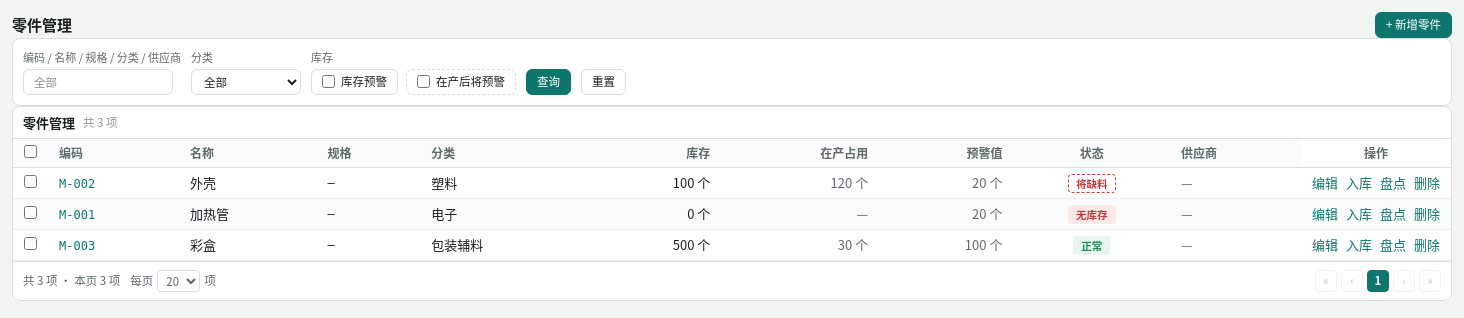
Test case: filters by projected alerts without changing the current-alert filter
Expected: the button "M-002" is shown, top-left (59, 175), bottom-right (95, 193)
Note: 「在产后将预警」只选出投影两档：M-002（将缺料）
Click the checkbox labelled "在产后将预警".
click(424, 82)  # box top-left (417, 75), bottom-right (430, 88)
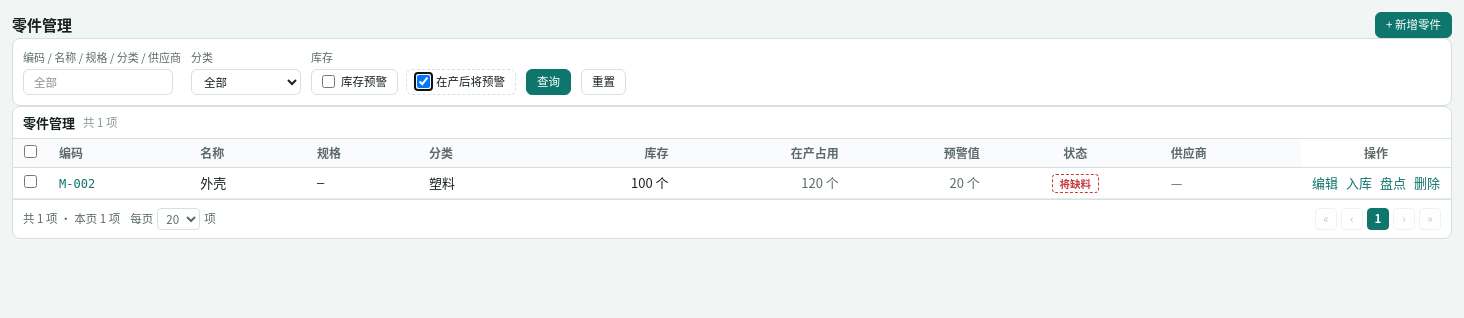
Expected: the button "M-002" is shown, top-left (59, 175), bottom-right (95, 193)
Result: the button "M-001" is gone
Result: the button "M-003" is gone
Note: 再勾上「库存预警」→ 并集：当前无货的 M-001 也回来
Click the checkbox labelled "库存预警".
click(328, 82)  # box top-left (322, 75), bottom-right (335, 88)
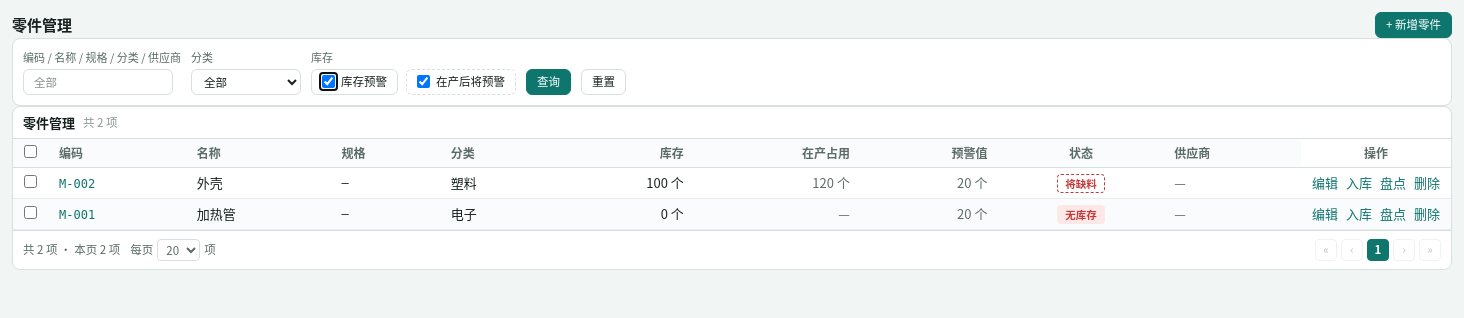
Expected: the button "M-002" is shown, top-left (59, 175), bottom-right (95, 193)
Result: the button "M-001" is shown at top-left (59, 206), bottom-right (95, 224)
Note:  重置后回到全部
Click the button "重置".
click(604, 82)  # box top-left (581, 68), bottom-right (626, 94)
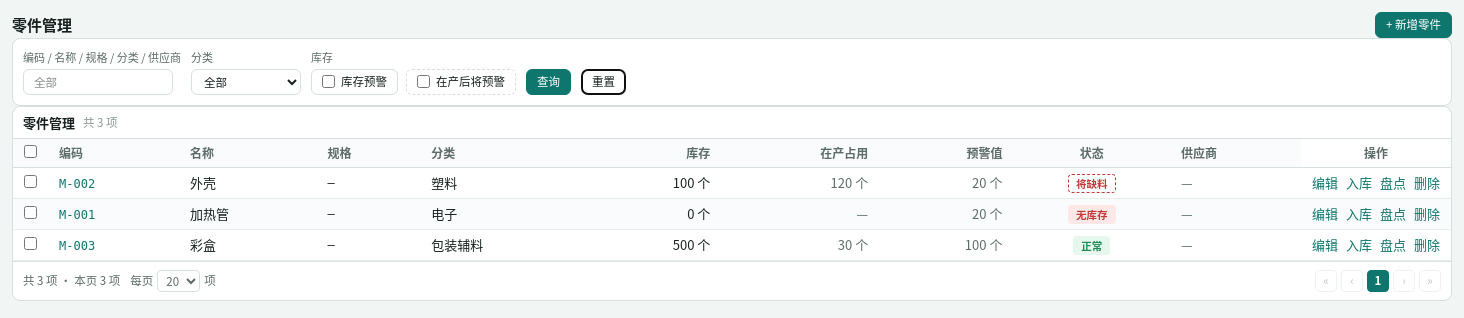
Result: the button "M-003" is shown at top-left (59, 237), bottom-right (95, 255)
